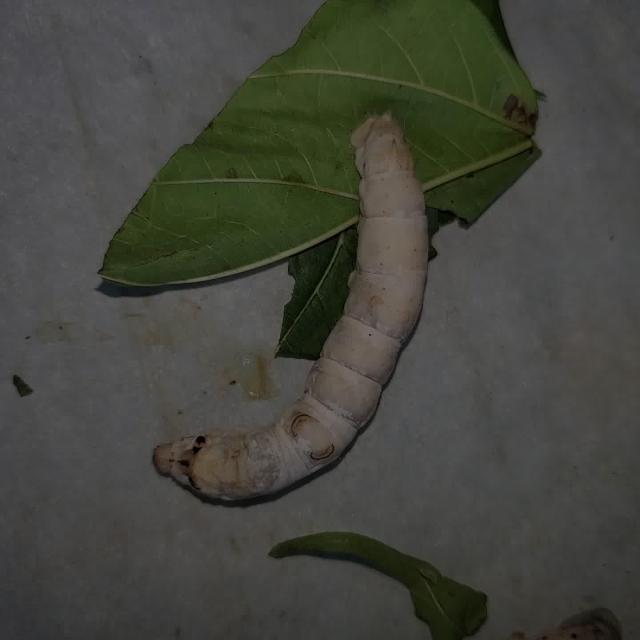Grasserie: (128, 79, 494, 529)
